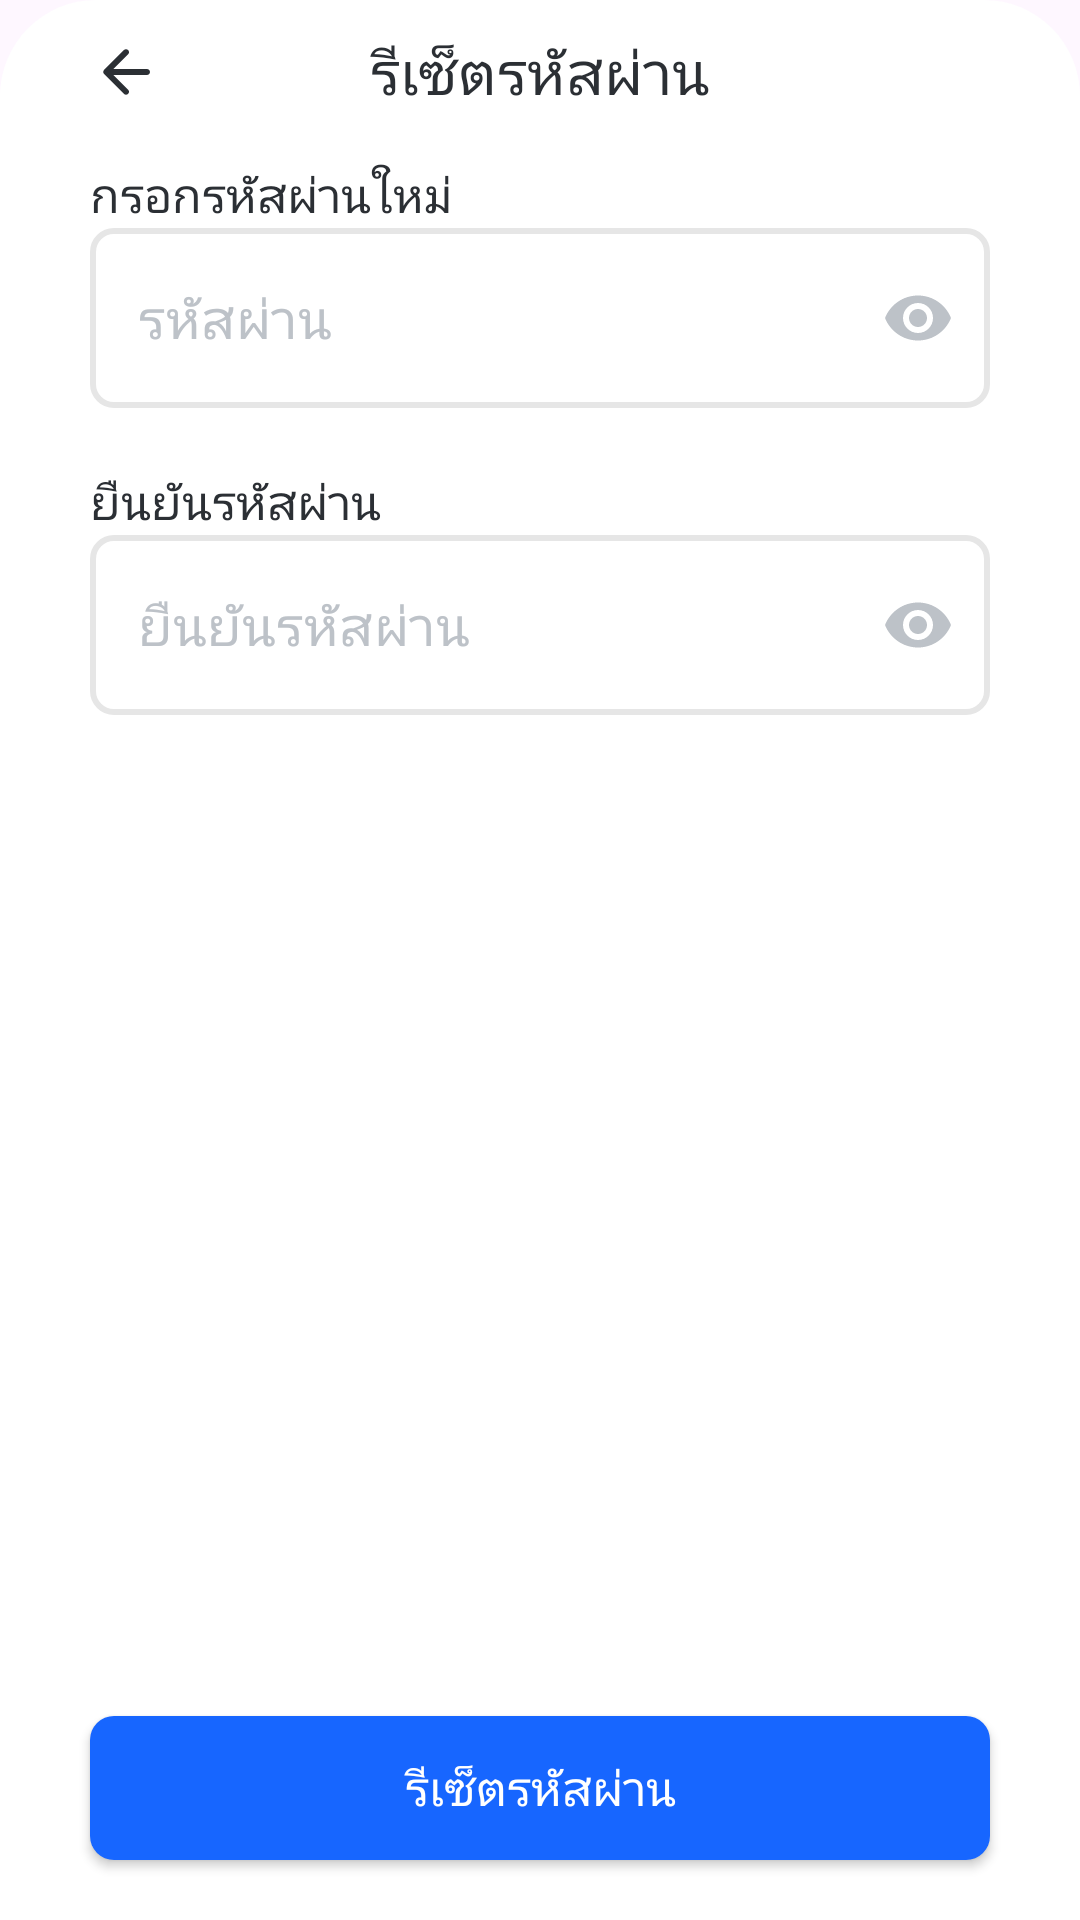

Screen size 1080x1920. Icon name, then its center in pixels as (x,y):
ย้อนกลับ: (126,72)
